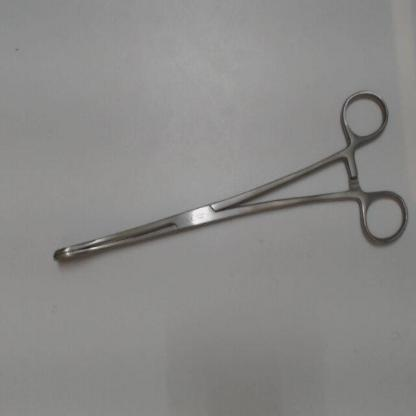Sponge Forceps: (44, 81, 414, 273)
